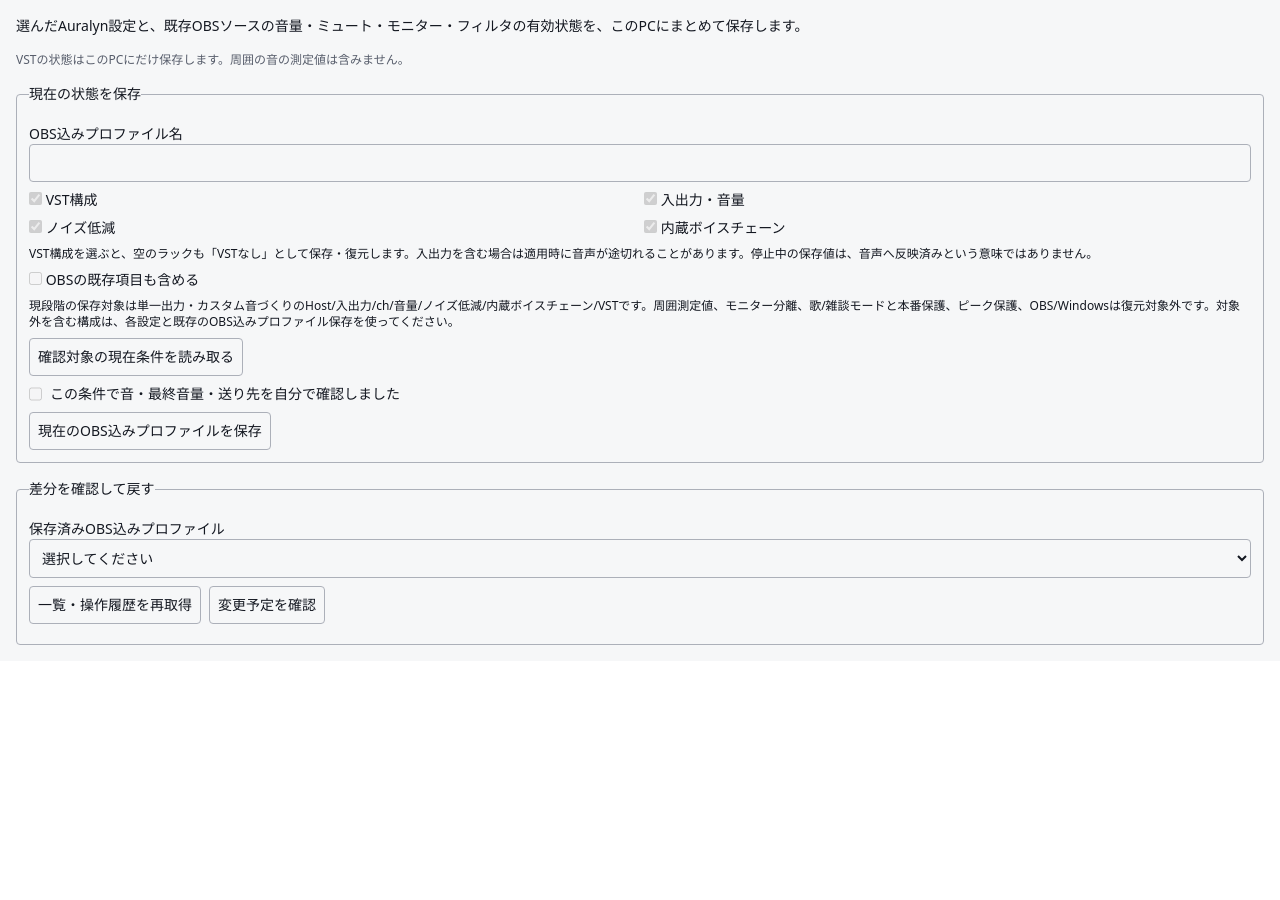
Scenario: 停止したEngineの保持値だけでは確認済み保存のチェックを許可しない
Click the button "確認対象の現在条件を読み取る".
click(136, 357)  # box [29,338,243,376]
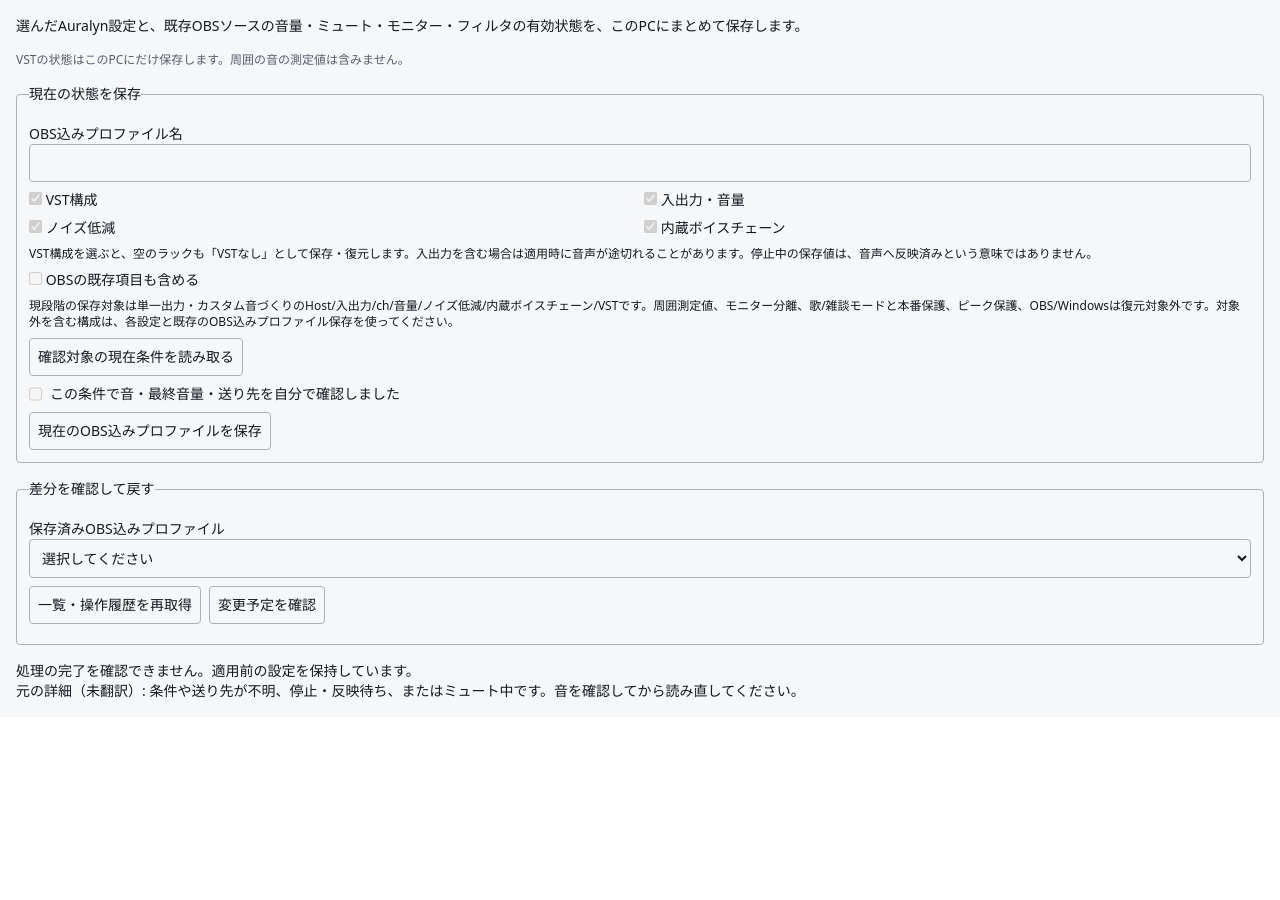
Expected: the checkbox labelled "この条件で音・最終音量・送り先を自分で確認しました" is disabled, [29,384,42,404]
Result: the message is shown at [16,661,805,700]
